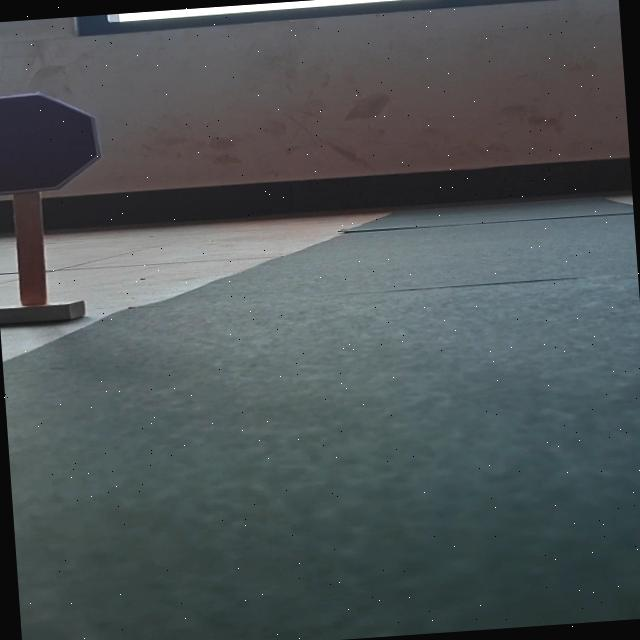Stop: (0, 88, 105, 197)
